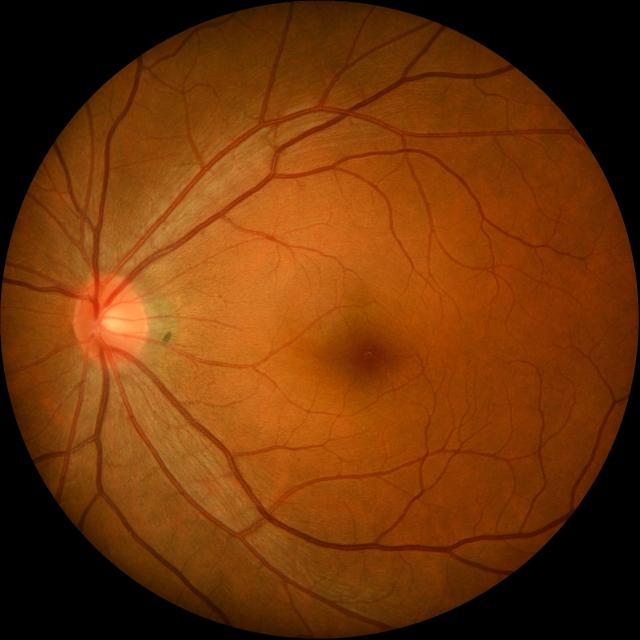OC: (100, 310, 122, 333)
OD: (74, 273, 146, 369)
